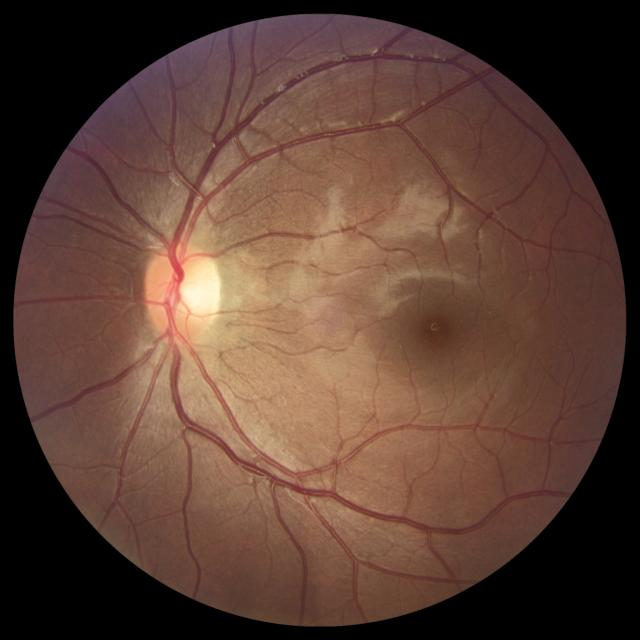OC: (173, 270, 217, 315)
OD: (144, 246, 222, 339)
